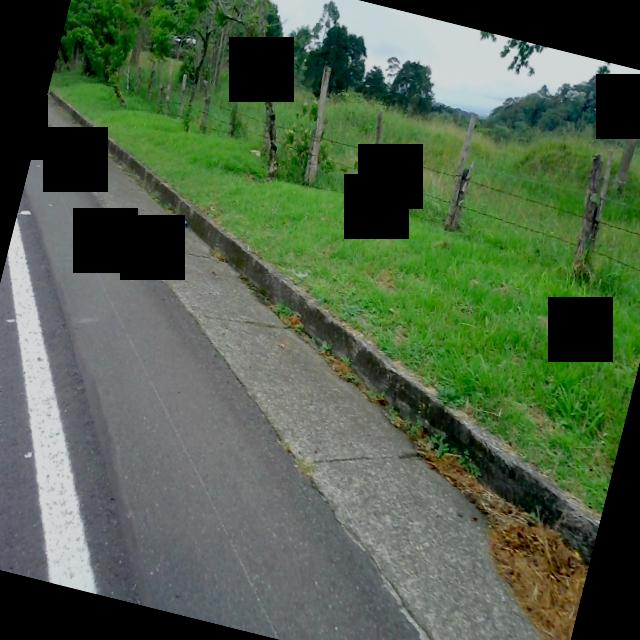DITCH: (0, 12, 640, 640), (0, 89, 640, 640)
